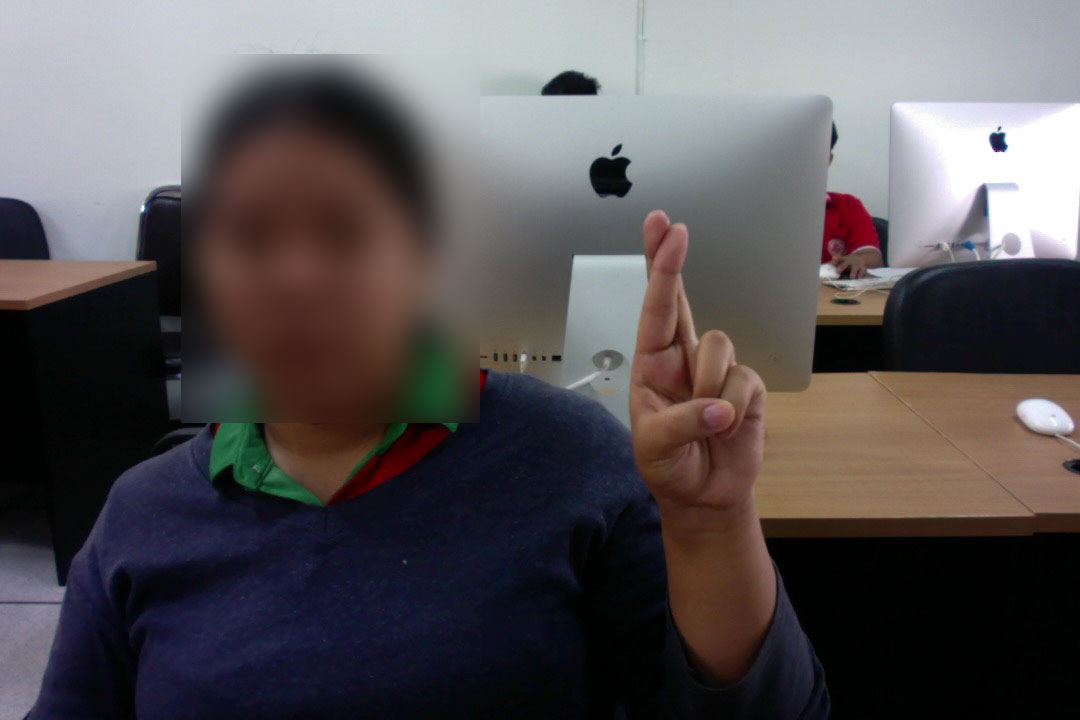rao: (617, 210, 780, 519)
